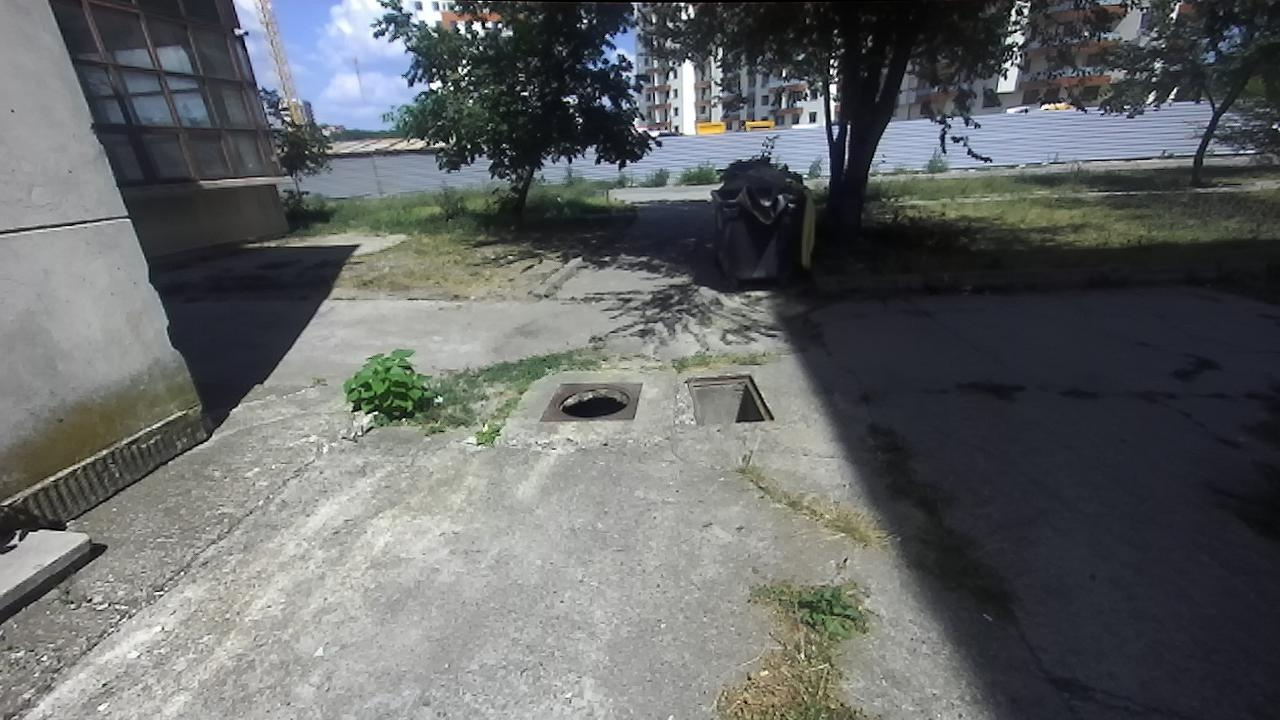drain: (685, 373, 777, 422), (551, 383, 636, 423)
